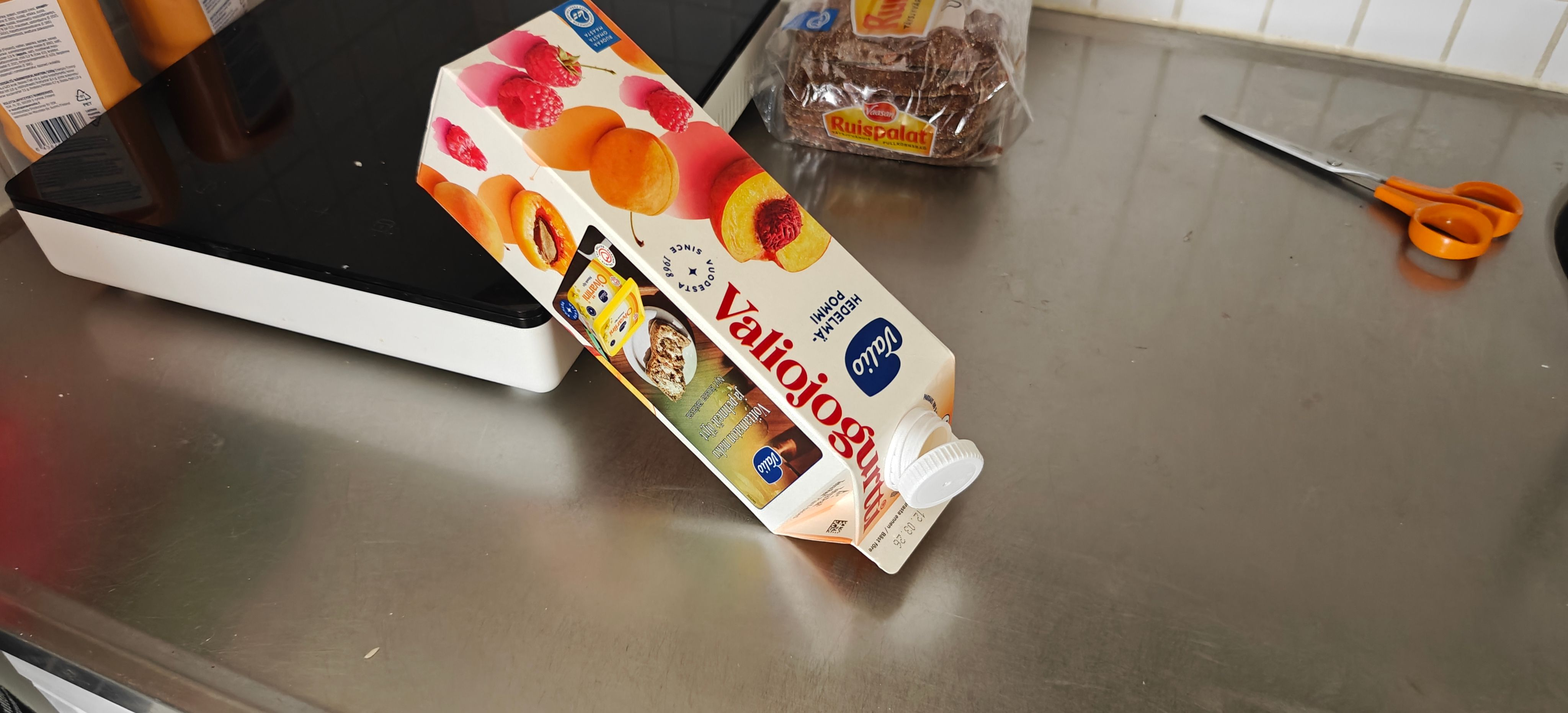Dryckeskartong: (417, 0, 983, 574)
